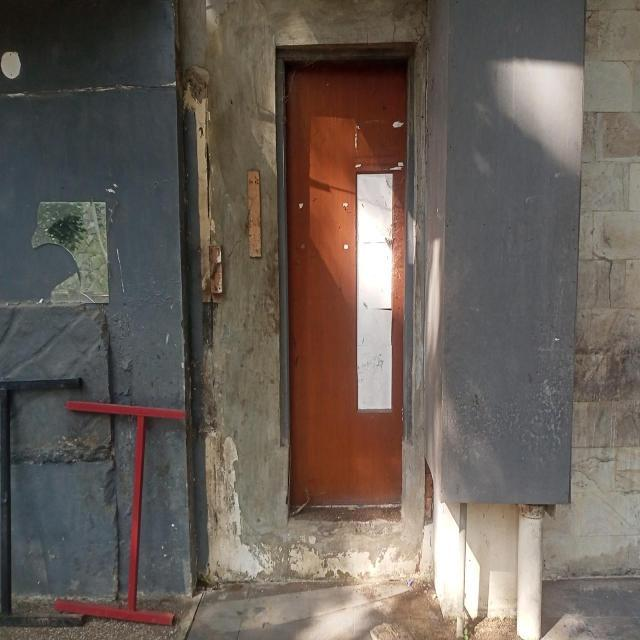door: (277, 43, 417, 510)
